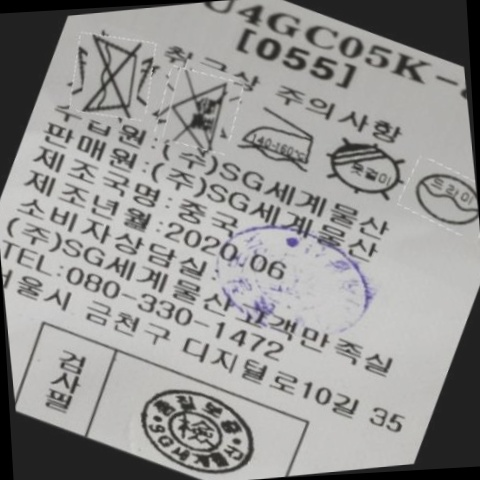DN_wash: (73, 31, 156, 120)
dry_clean: (408, 159, 480, 237)
iron_medium: (241, 109, 321, 170)
line_dry_in_shade: (324, 136, 410, 201)
non_chlorine_bleach: (167, 73, 239, 149)
